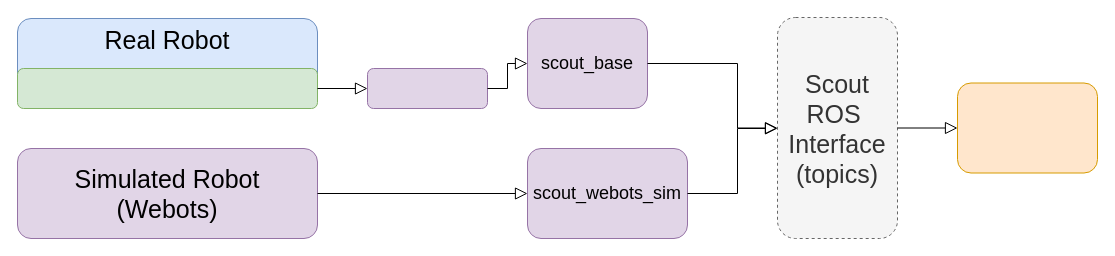
Some shapes in this 1115 by 256 pixel diagram are drawn without their labels. The shapes that lost their labels are listed below. From the top down, each one's centre as x and y in pixels, then its label:
[167,88]: UART/CAN
[427,88]: scout_sdk
[1027,127]: User Nodes
